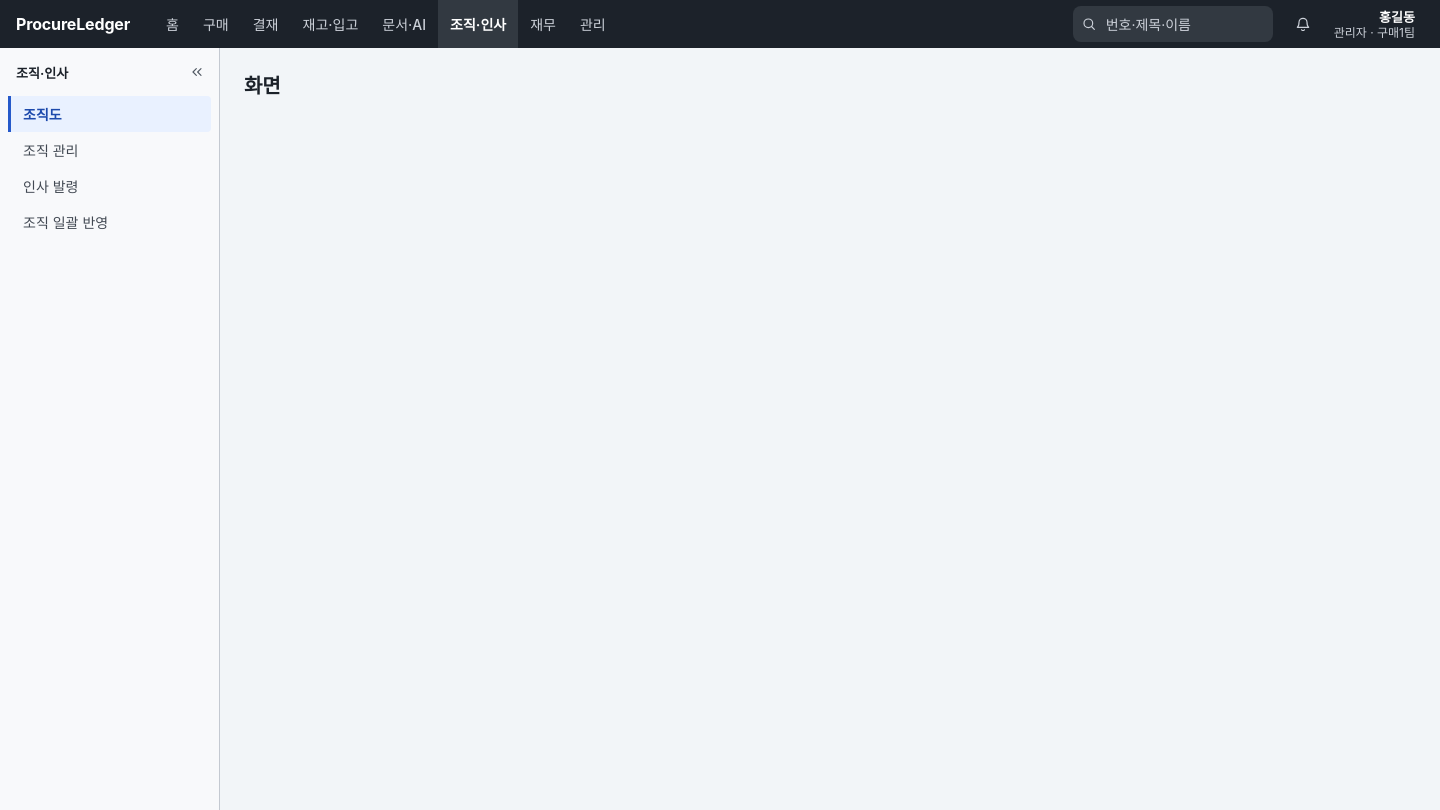
Test: 우측 패널 › SNB 접기도 사용자별로 기억된다
Click the button named "메뉴 접기".
click(197, 74)  # box 183,60 -> 211,88
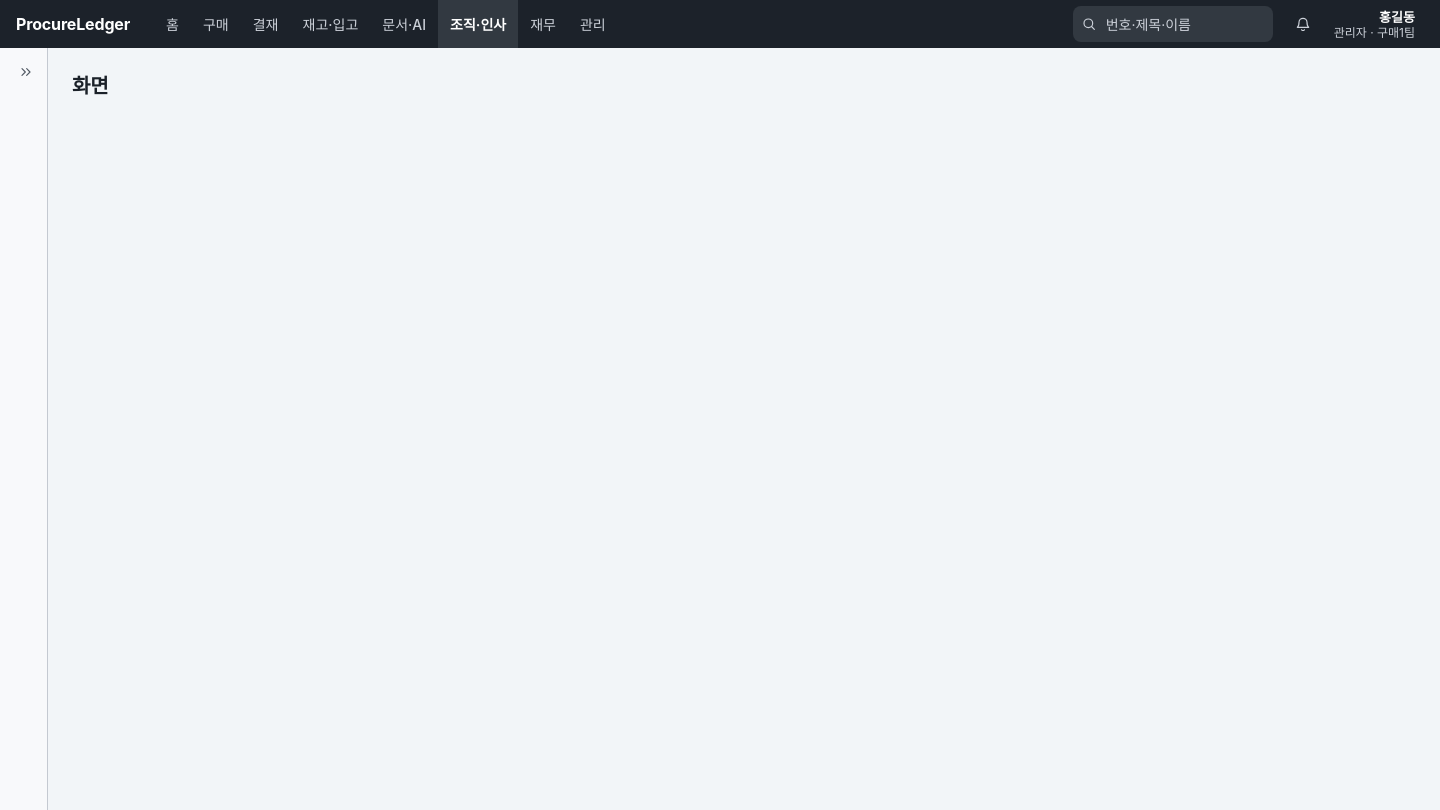
Now the button named "메뉴 펼치기" is collapsed, box 12,60 -> 40,88
